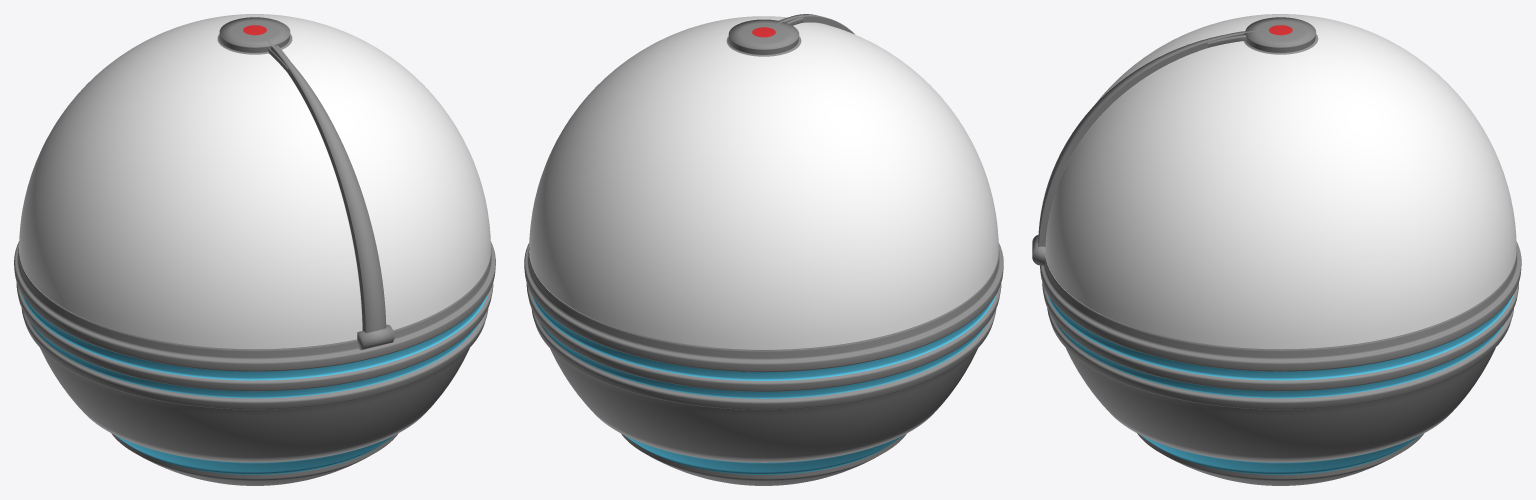
Rendered from Hovercraft.fbx.
3 renders of one model, left to right at view 1: azimuth 30°, elevation 25°; view 2: azimuth 150°, elevation 25°; view 3: azimuth 270°, elevation 25°, orthographic.
Parts seen in each view (by area): view 1: Canopy, Hovercraft; view 2: Canopy, Hovercraft; view 3: Canopy, Hovercraft.
Boxes of the visible parts, x1,y1,x2,y2 form: Canopy: (19, 14, 490, 349); Hovercraft: (14, 241, 495, 485); Canopy: (529, 14, 998, 350); Hovercraft: (524, 242, 1003, 485); Canopy: (1032, 14, 1516, 349); Hovercraft: (1040, 242, 1521, 485).
Size of the model in its own units: 228 by 226 by 231.
